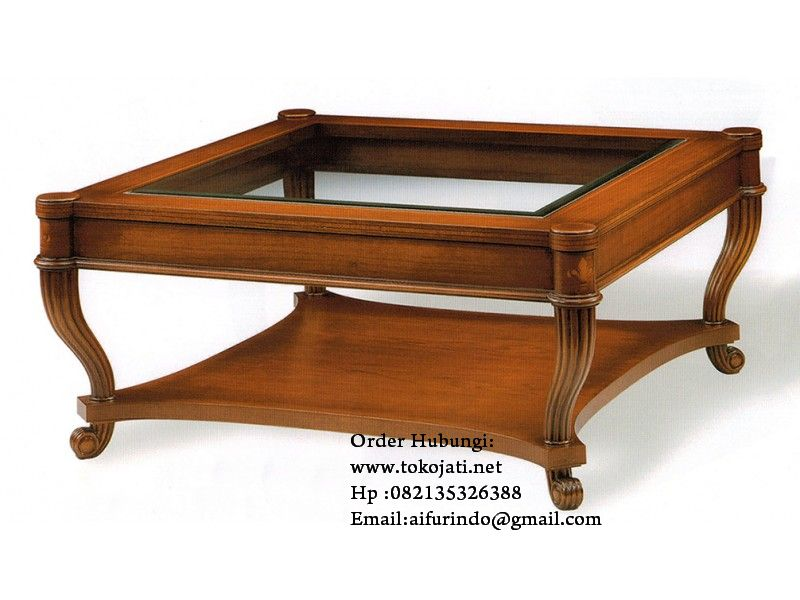Carving Table: (33, 111, 760, 515)
